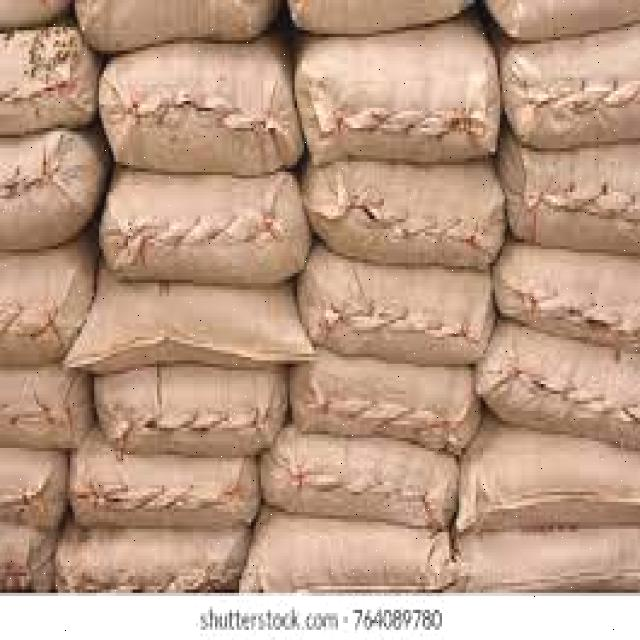sack: (298, 38, 500, 170), (101, 44, 301, 176), (99, 166, 310, 284), (61, 280, 313, 374), (308, 244, 490, 368), (263, 426, 456, 537), (476, 323, 639, 452), (304, 165, 500, 272), (294, 354, 483, 454), (452, 430, 640, 527), (95, 367, 286, 458), (68, 442, 259, 527), (495, 239, 640, 350), (510, 32, 640, 148), (240, 529, 459, 596), (54, 519, 247, 595), (507, 144, 640, 250), (454, 521, 640, 594), (0, 127, 90, 248), (0, 250, 94, 362), (0, 27, 97, 128), (0, 364, 89, 448), (0, 455, 65, 529), (0, 526, 55, 594)
